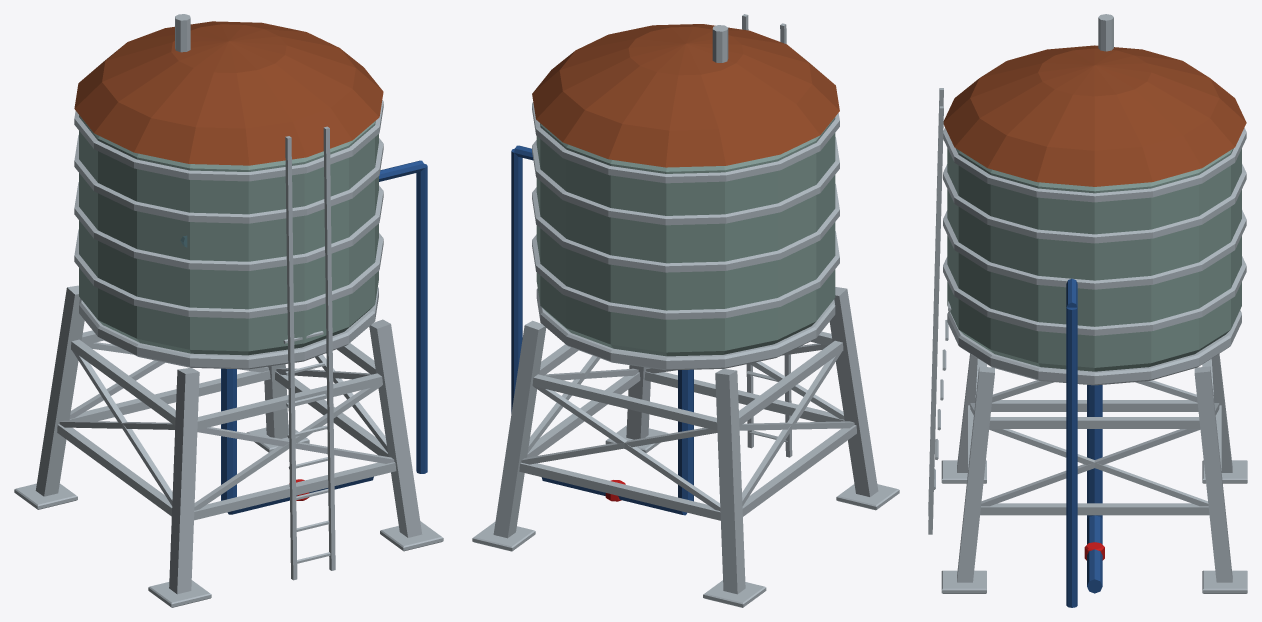
The model's file is UTILITY_08.obj.
3 views of the same model, side by side, from view 1: azimuth 30°, elevation 25°; view 2: azimuth 150°, elevation 25°; view 3: azimuth 270°, elevation 25° (orthographic). The views are drawn at different scales.
Parts seen in each view (by area): view 1: UTILITY_08__tank, UTILITY_08__roof, UTILITY_08__legs, UTILITY_08__hoops, UTILITY_08__stand_ring, UTILITY_08__stand_brace, UTILITY_08__ladder_rail, UTILITY_08__deck, UTILITY_08__inlet_pipe, UTILITY_08__foot, UTILITY_08__pipe, UTILITY_08__ladder_rung (+1 smaller); view 2: UTILITY_08__tank, UTILITY_08__roof, UTILITY_08__legs, UTILITY_08__hoops, UTILITY_08__stand_ring, UTILITY_08__stand_brace, UTILITY_08__deck, UTILITY_08__foot, UTILITY_08__inlet_pipe, UTILITY_08__pipe, UTILITY_08__ladder_rail, UTILITY_08__vent; view 3: UTILITY_08__tank, UTILITY_08__roof, UTILITY_08__hoops, UTILITY_08__legs, UTILITY_08__stand_ring, UTILITY_08__stand_brace, UTILITY_08__deck, UTILITY_08__inlet_pipe, UTILITY_08__foot, UTILITY_08__pipe, UTILITY_08__ladder_rail, UTILITY_08__vent (+1 smaller).
Boxes of the visible parts, x1,y1,x2,y2 form: UTILITY_08__tank: [79, 115, 378, 355]; UTILITY_08__roof: [74, 21, 383, 165]; UTILITY_08__legs: [35, 285, 422, 594]; UTILITY_08__hoops: [74, 100, 383, 318]; UTILITY_08__stand_ring: [57, 330, 396, 520]; UTILITY_08__stand_brace: [59, 342, 394, 510]; UTILITY_08__ladder_rail: [285, 126, 335, 580]; UTILITY_08__deck: [79, 287, 378, 369]; UTILITY_08__inlet_pipe: [379, 160, 427, 473]; UTILITY_08__foot: [14, 424, 443, 607]; UTILITY_08__pipe: [221, 368, 373, 514]; UTILITY_08__ladder_rung: [283, 331, 330, 563]; UTILITY_08__tank: [536, 117, 835, 356]; UTILITY_08__roof: [532, 24, 839, 167]; UTILITY_08__legs: [493, 287, 878, 594]; UTILITY_08__hoops: [532, 102, 839, 319]; UTILITY_08__stand_ring: [519, 331, 856, 520]; UTILITY_08__stand_brace: [521, 343, 854, 510]; UTILITY_08__deck: [536, 288, 835, 370]; UTILITY_08__foot: [472, 425, 899, 607]; UTILITY_08__inlet_pipe: [511, 145, 533, 413]; UTILITY_08__pipe: [541, 369, 693, 515]; UTILITY_08__ladder_rail: [742, 14, 792, 457]; UTILITY_08__vent: [712, 25, 728, 62]; UTILITY_08__tank: [947, 148, 1241, 371]; UTILITY_08__roof: [943, 45, 1246, 186]; UTILITY_08__hoops: [943, 127, 1246, 335]; UTILITY_08__legs: [957, 353, 1232, 582]; UTILITY_08__stand_ring: [968, 358, 1221, 515]; UTILITY_08__stand_brace: [970, 359, 1219, 506]; UTILITY_08__deck: [947, 310, 1241, 385]; UTILITY_08__inlet_pipe: [1066, 278, 1077, 607]; UTILITY_08__foot: [941, 460, 1247, 593]; UTILITY_08__pipe: [1087, 385, 1102, 593]; UTILITY_08__ladder_rail: [928, 88, 943, 534]; UTILITY_08__vent: [1098, 14, 1113, 51].
Size of the model in its own units: 3.2 by 4.81 by 2.82.
